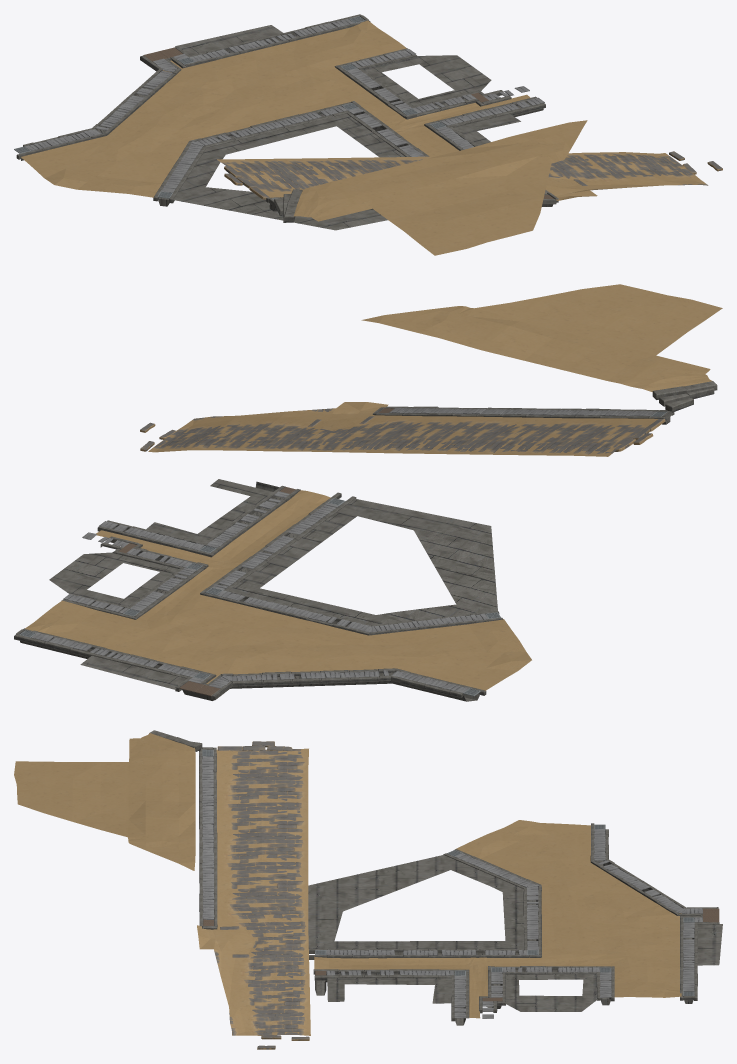
Rendered from konohavill_ground_13.fbx.
3 renders of one model, top to bottom at view 1: azimuth 30°, elevation 25°; view 2: azimuth 150°, elevation 25°; view 3: azimuth 270°, elevation 25°, orthographic. The views are drawn at different scales.
Parts seen in each view (by area): view 1: SM_ENV_KNVLLG_ground_13.mo; view 2: SM_ENV_KNVLLG_ground_13.mo; view 3: SM_ENV_KNVLLG_ground_13.mo.
Part boxes in pixels (box(x1,y1,x2,y2)): SM_ENV_KNVLLG_ground_13.mo: box(14, 14, 722, 255); SM_ENV_KNVLLG_ground_13.mo: box(14, 284, 722, 701); SM_ENV_KNVLLG_ground_13.mo: box(14, 730, 722, 1049).
Bounding box in the file's own units: 4748 × 1109 × 6296.
